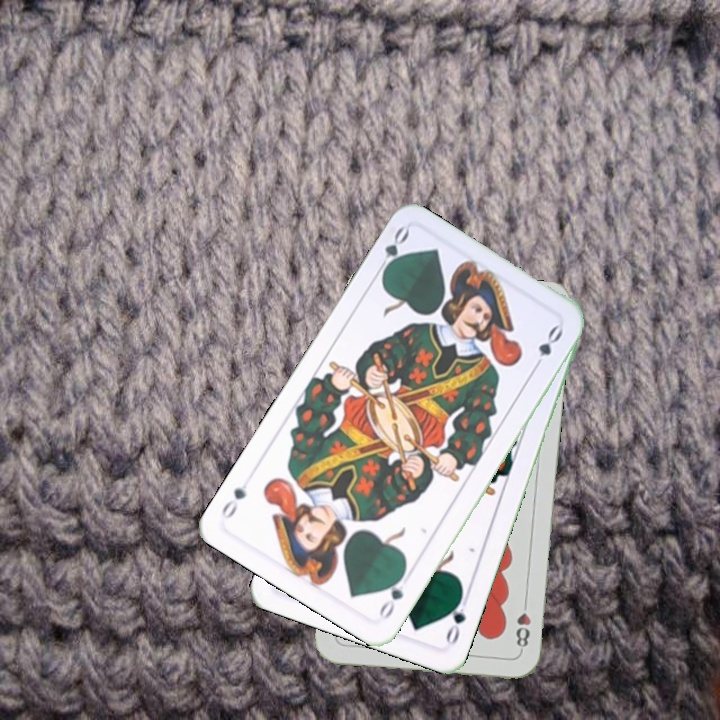GO: (372, 222, 412, 280), (375, 567, 408, 623), (441, 590, 469, 647)
H8: (512, 595, 533, 654)
